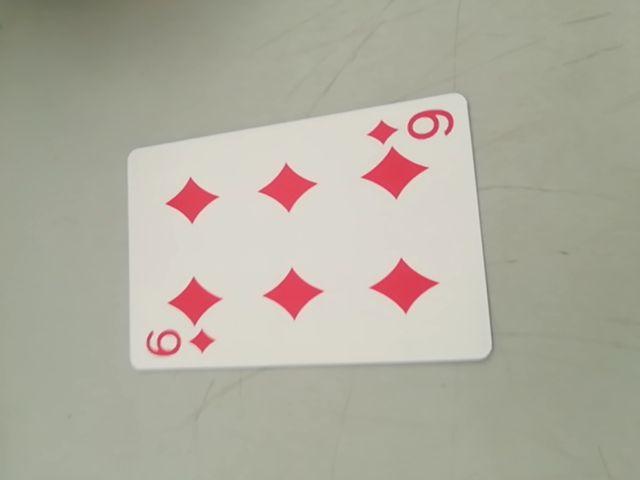fk 6: (370, 104, 457, 147), (139, 322, 221, 367)
